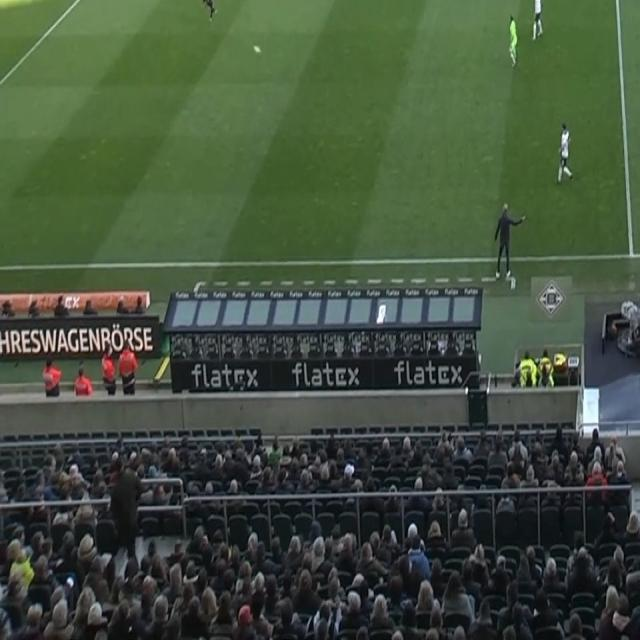ball: (254, 43, 262, 56)
